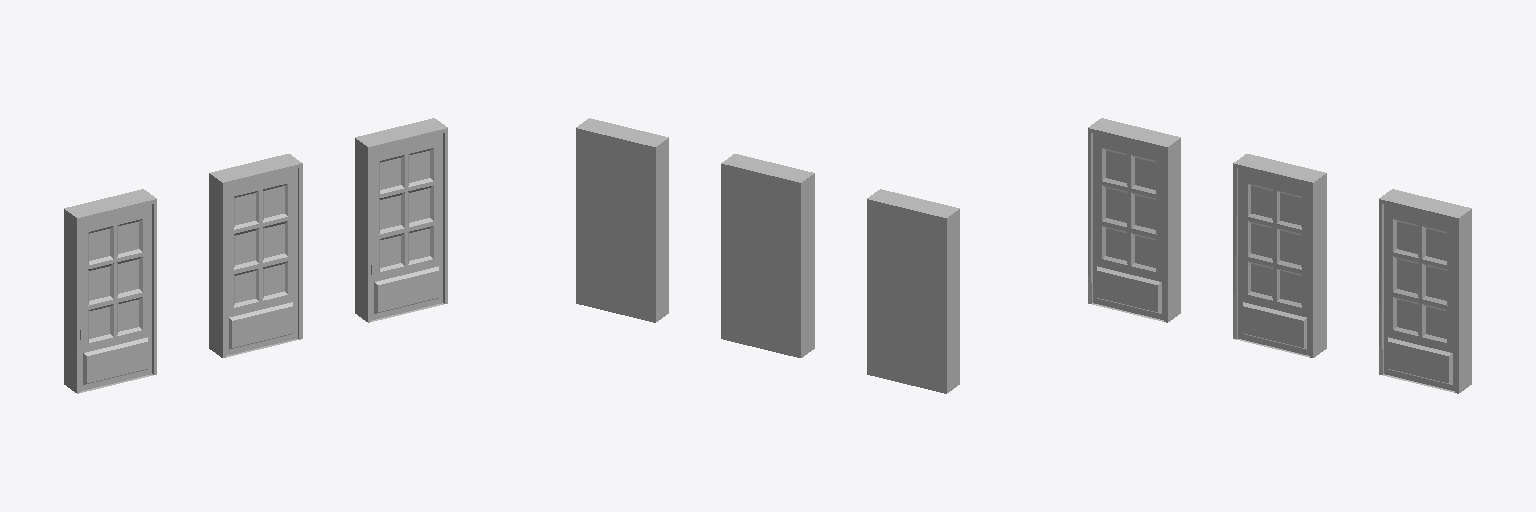
The model's file is bank_inside_doors.obj.
3 renders of one model, left to right at view 1: azimuth 30°, elevation 25°; view 2: azimuth 150°, elevation 25°; view 3: azimuth 330°, elevation 25°, orthographic.
Visible parts, largest first — view 1: SM_Prop_Door_01.004_Mesh.006, SM_Prop_Door_01.003_Mesh.005, SM_Prop_Door_01.005_Mesh.007; view 2: SM_Prop_Door_01.004_Mesh.006, SM_Prop_Door_01.003_Mesh.005, SM_Prop_Door_01.005_Mesh.007; view 3: SM_Prop_Door_01.004_Mesh.006, SM_Prop_Door_01.003_Mesh.005, SM_Prop_Door_01.005_Mesh.007.
Part boxes in pixels (bbox=[...]): SM_Prop_Door_01.004_Mesh.006: bbox=[209, 154, 302, 357]; SM_Prop_Door_01.003_Mesh.005: bbox=[355, 118, 447, 322]; SM_Prop_Door_01.005_Mesh.007: bbox=[64, 189, 156, 393]; SM_Prop_Door_01.004_Mesh.006: bbox=[721, 154, 814, 357]; SM_Prop_Door_01.003_Mesh.005: bbox=[576, 118, 668, 322]; SM_Prop_Door_01.005_Mesh.007: bbox=[867, 189, 959, 393]; SM_Prop_Door_01.004_Mesh.006: bbox=[1233, 154, 1326, 357]; SM_Prop_Door_01.003_Mesh.005: bbox=[1379, 189, 1471, 393]; SM_Prop_Door_01.005_Mesh.007: bbox=[1088, 118, 1180, 322].
Size of the model in its own units: 5.87 by 2.65 by 0.3758.